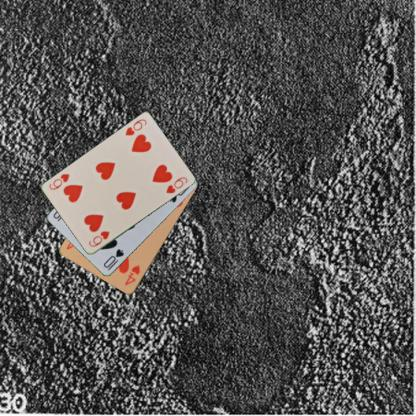10s: (101, 247, 125, 272)
4h: (122, 263, 141, 286)
6h: (86, 228, 111, 249), (122, 117, 148, 137)
